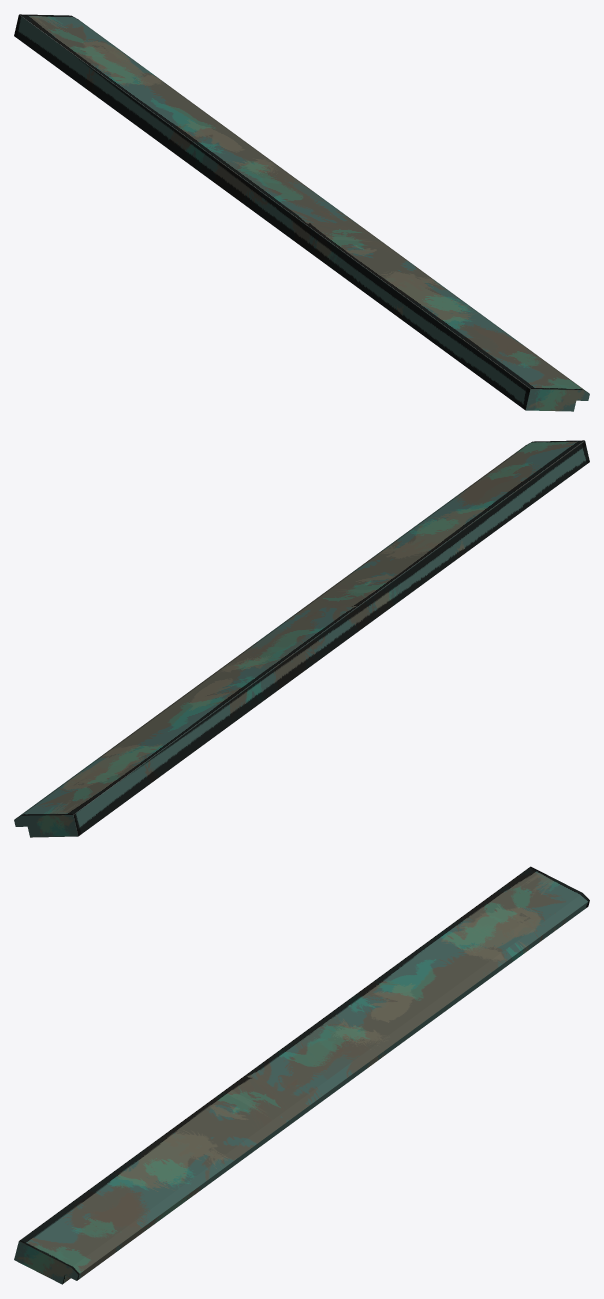
Rendered from 1-RoofGreen.fbx.
3 renders of one model, top to bottom at view 1: azimuth 30°, elevation 25°; view 2: azimuth 150°, elevation 25°; view 3: azimuth 330°, elevation 25°, orthographic.
Visible parts, largest first — view 1: Cube.008; view 2: Cube.008; view 3: Cube.008.
Boxes of the visible parts, box(x1,y1,x2,y2) form: Cube.008: box(14, 14, 589, 411); Cube.008: box(14, 440, 589, 837); Cube.008: box(14, 866, 589, 1284).
Size of the model in its own units: 77.75 by 38.32 by 1069.
Materials: 1 (1 with a texture image).
